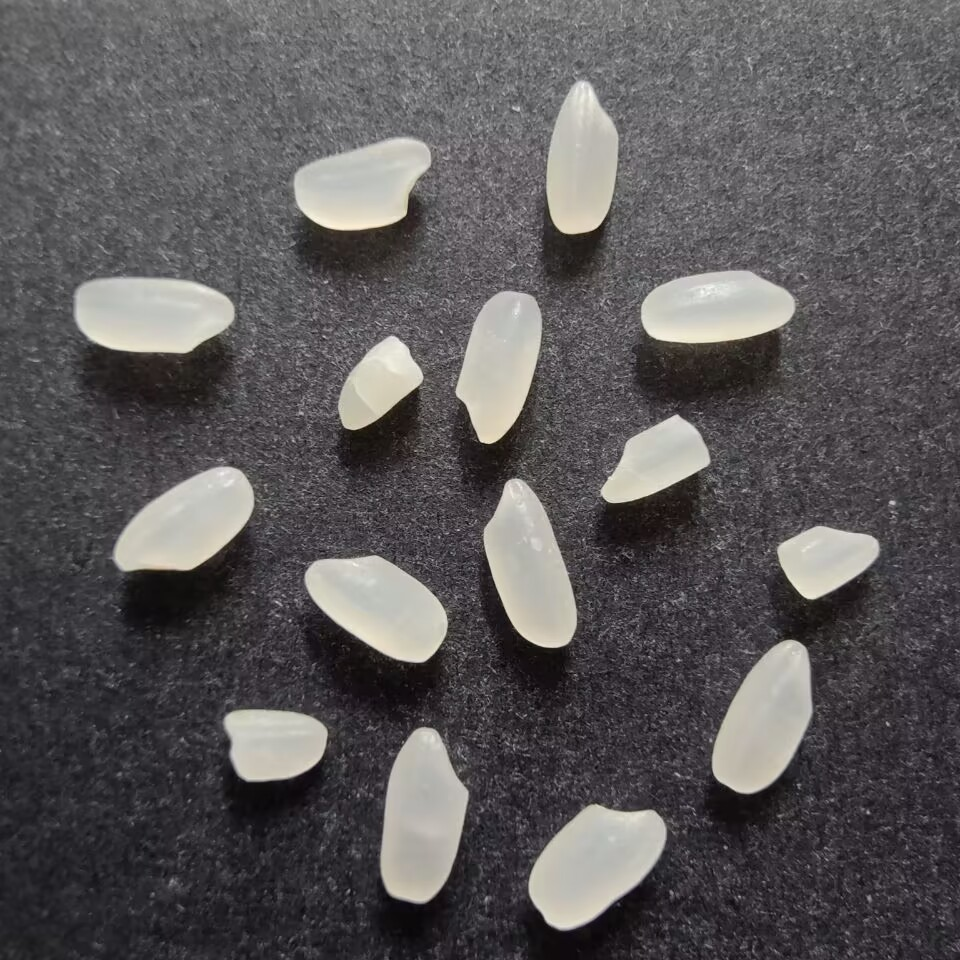broken: (595, 411, 713, 509), (218, 702, 334, 790), (771, 520, 887, 604), (334, 333, 427, 435)
rice: (522, 800, 670, 932), (376, 720, 473, 909), (480, 474, 582, 653), (708, 637, 818, 798), (108, 461, 256, 579), (299, 550, 452, 664), (449, 287, 544, 447), (289, 129, 435, 233), (65, 274, 240, 356), (635, 267, 799, 349), (543, 73, 621, 236)
